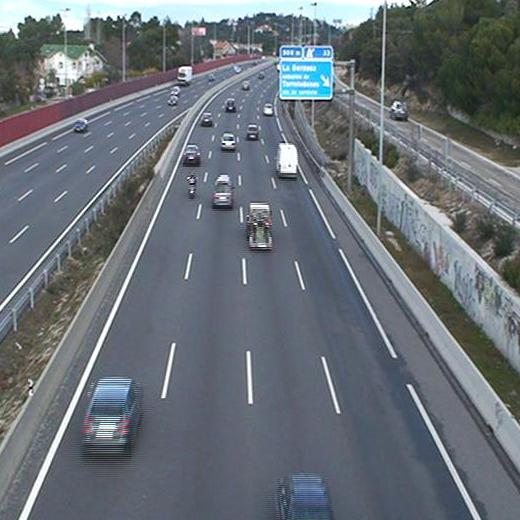car: (81, 377, 141, 450), (210, 174, 234, 206), (181, 145, 201, 162), (220, 133, 237, 148), (246, 124, 260, 139), (199, 113, 212, 126), (226, 98, 236, 111), (263, 103, 274, 114)
motorcycle: (184, 172, 199, 197)
small-truck: (247, 203, 275, 251)
van: (274, 142, 300, 176)
